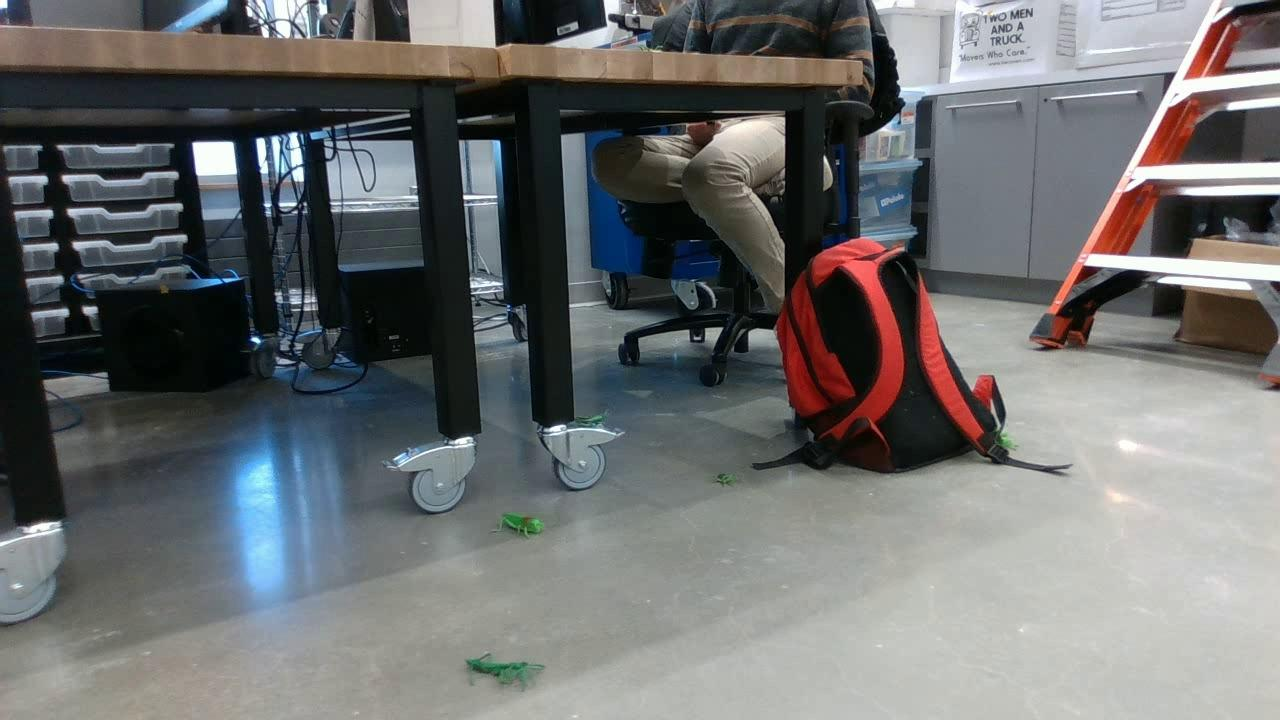grasshopper: (494, 508, 545, 540), (995, 429, 1021, 451)
